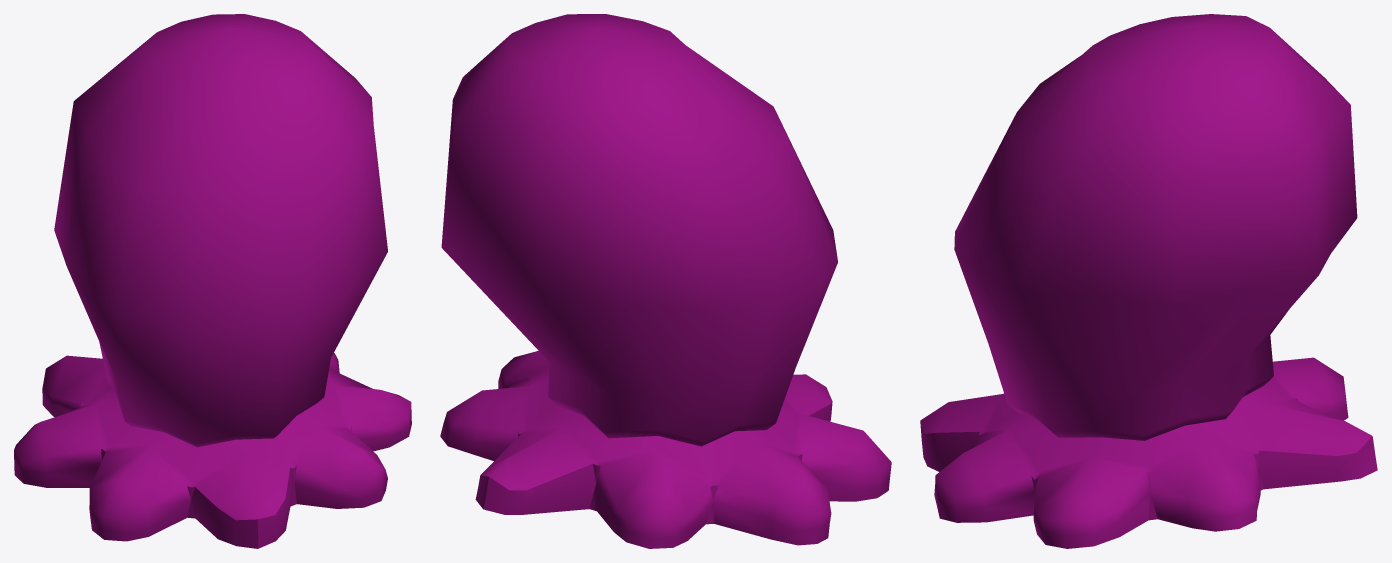
File: SM_octopus_toy.FBX
3 views of the same model, side by side, from view 1: azimuth 30°, elevation 25°; view 2: azimuth 150°, elevation 25°; view 3: azimuth 270°, elevation 25° (orthographic). The views are drawn at different scales.
Visible parts, largest first — view 1: octosmooth; view 2: octosmooth; view 3: octosmooth.
Part boxes in pixels (left/top/right/bottom): octosmooth: left=14, top=14, right=411, bottom=548; octosmooth: left=440, top=14, right=891, bottom=548; octosmooth: left=920, top=14, right=1377, bottom=548.
Bounding box in the file's own units: 28.46 × 33.23 × 28.78.
